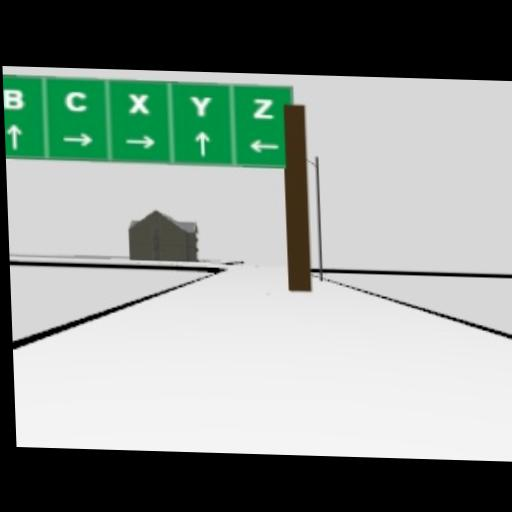B: (3, 87, 22, 109)
C: (63, 89, 86, 111)
Left: (247, 137, 281, 152)
Right: (61, 130, 95, 146), (123, 134, 155, 148)
Straight: (5, 122, 23, 149), (194, 129, 210, 153)
X: (127, 91, 149, 113)
Y: (189, 94, 212, 116)
Z: (251, 96, 274, 118)
